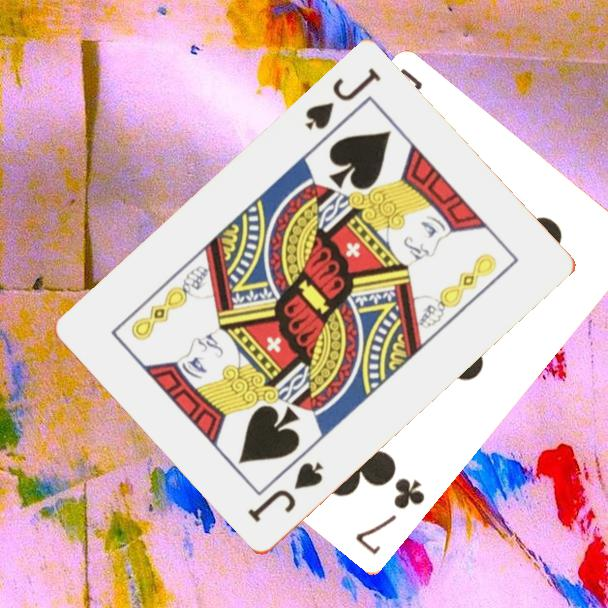c07: (352, 474, 428, 559)
s11: (301, 65, 384, 134), (244, 459, 327, 527)
